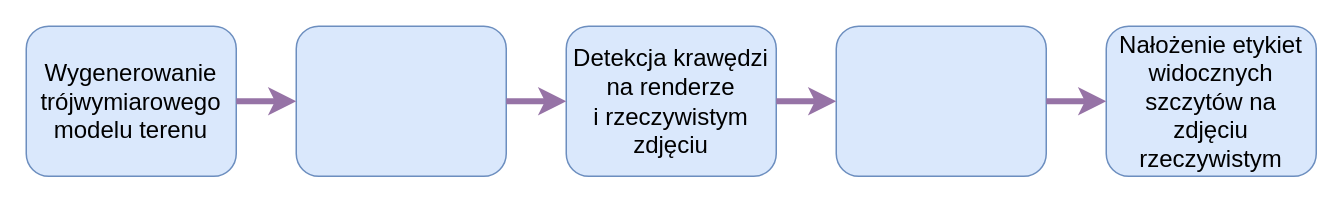
The diagram is 1343 pixels wide and 203 high, and some of its shapes have lost their labels. Each missing label, with the centre of its shape:
Dopasowanie obu zdjęć: (x=940, y=100)
Określenie widocznych szczytów na renderze: (x=400, y=100)
